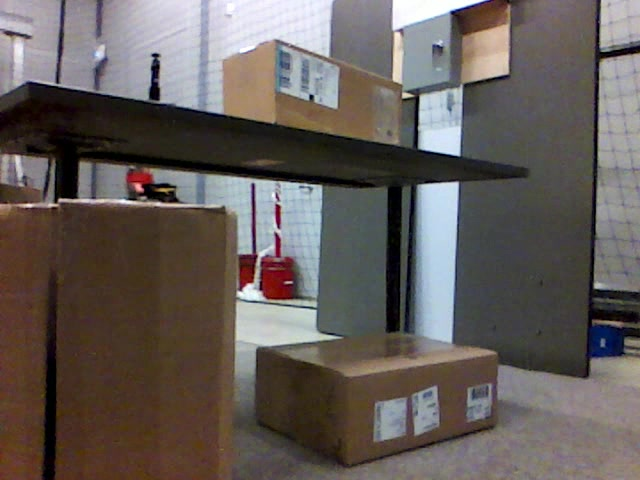box: (2, 198, 234, 480), (257, 332, 499, 468), (225, 41, 402, 147)
